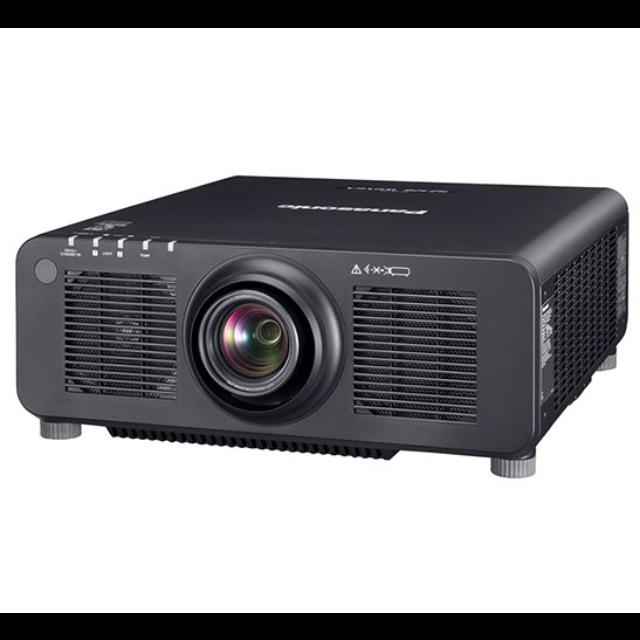Projector: (15, 148, 640, 510)
